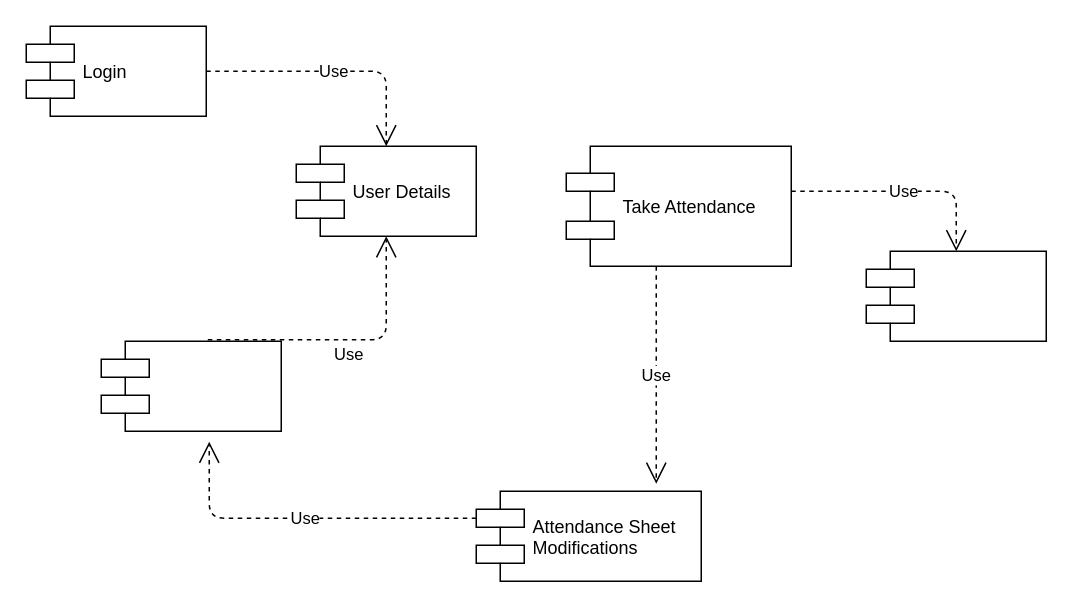
This 1073x608 diagram has some shape labels left out. The shapes that lost their labels are listed below. From the top down, each one's centre as x and y in pixels, then its label:
At point (955, 295): "QR Reader".
At point (190, 385): "Attendance Sheet Details".
